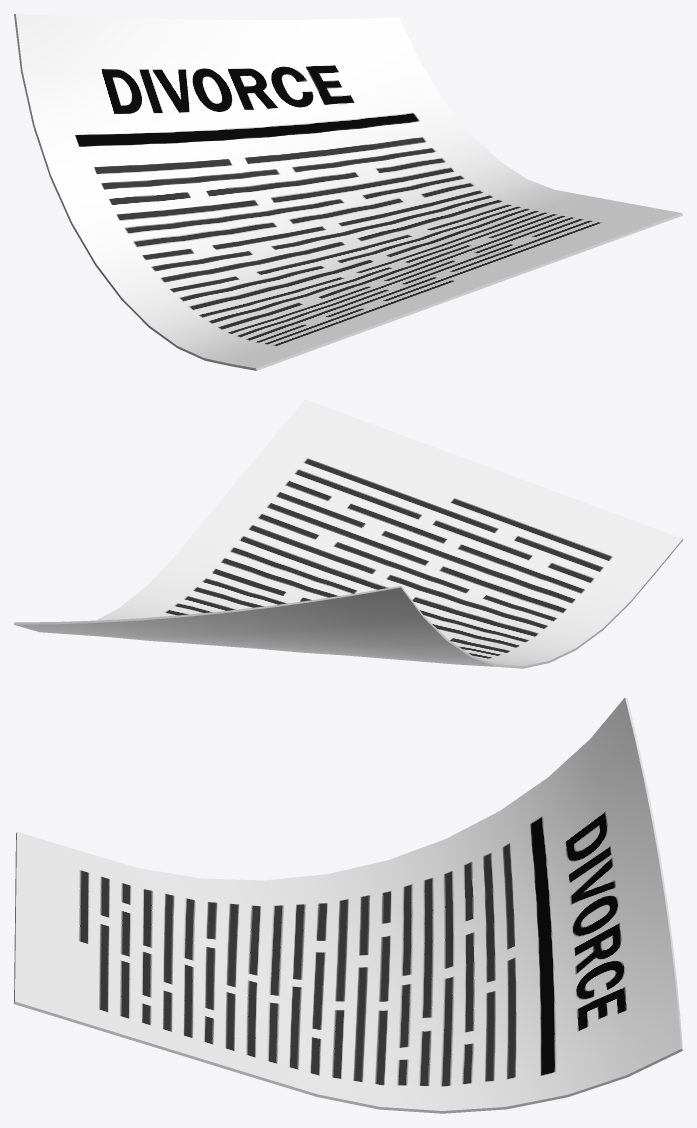
Rendered from ThrownPaper2.fbx.
3 views of the same model, one above another, from view 1: azimuth 30°, elevation 25°; view 2: azimuth 150°, elevation 25°; view 3: azimuth 270°, elevation 25° (orthographic). The views are drawn at different scales.
Parts seen in each view (by area): view 1: pasted__pCube18; view 2: pasted__pCube18; view 3: pasted__pCube18.
Boxes of the visible parts, bbox=[...] form: pasted__pCube18: bbox=[14, 14, 682, 370]; pasted__pCube18: bbox=[14, 399, 682, 668]; pasted__pCube18: bbox=[14, 697, 682, 1113].
Bounding box in the file's own units: 0.8871 × 0.3523 × 1.05.
